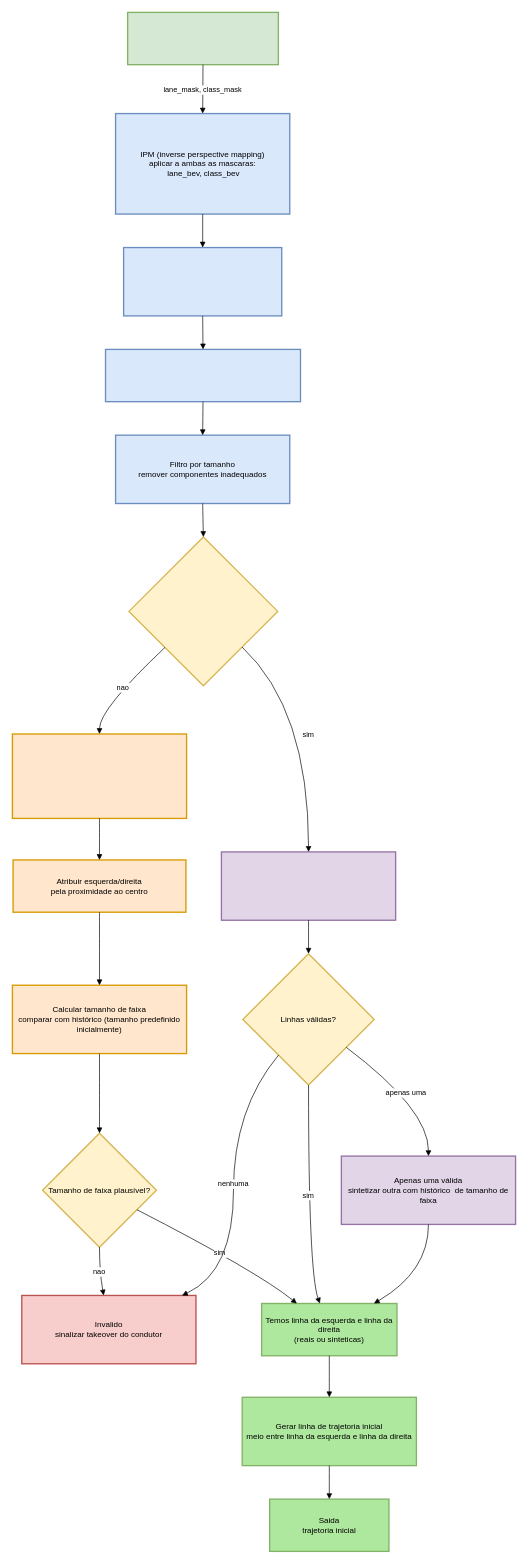
Some shapes in this 527 by 1563 pixel diagram are drawn without their labels. Here are the shapes that lost their labels. From the top down, the box of each, then its label:
(127, 11, 279, 65): Inputs lane_mask, class_mask
(123, 247, 282, 316): Morfologia (kernels H/V) corrigir falhas em lane_bev, class_bev
(105, 348, 301, 402): extrair clusters de linhas
(128, 536, 278, 686): Existe histórico linha anterior esquerda/direita?
(11, 733, 187, 819): Primeira frame extrair ponto com y mais baixo de cada linha
(220, 851, 396, 921): Matching com histórico distancia curta a linha anterior esquerda/direita
